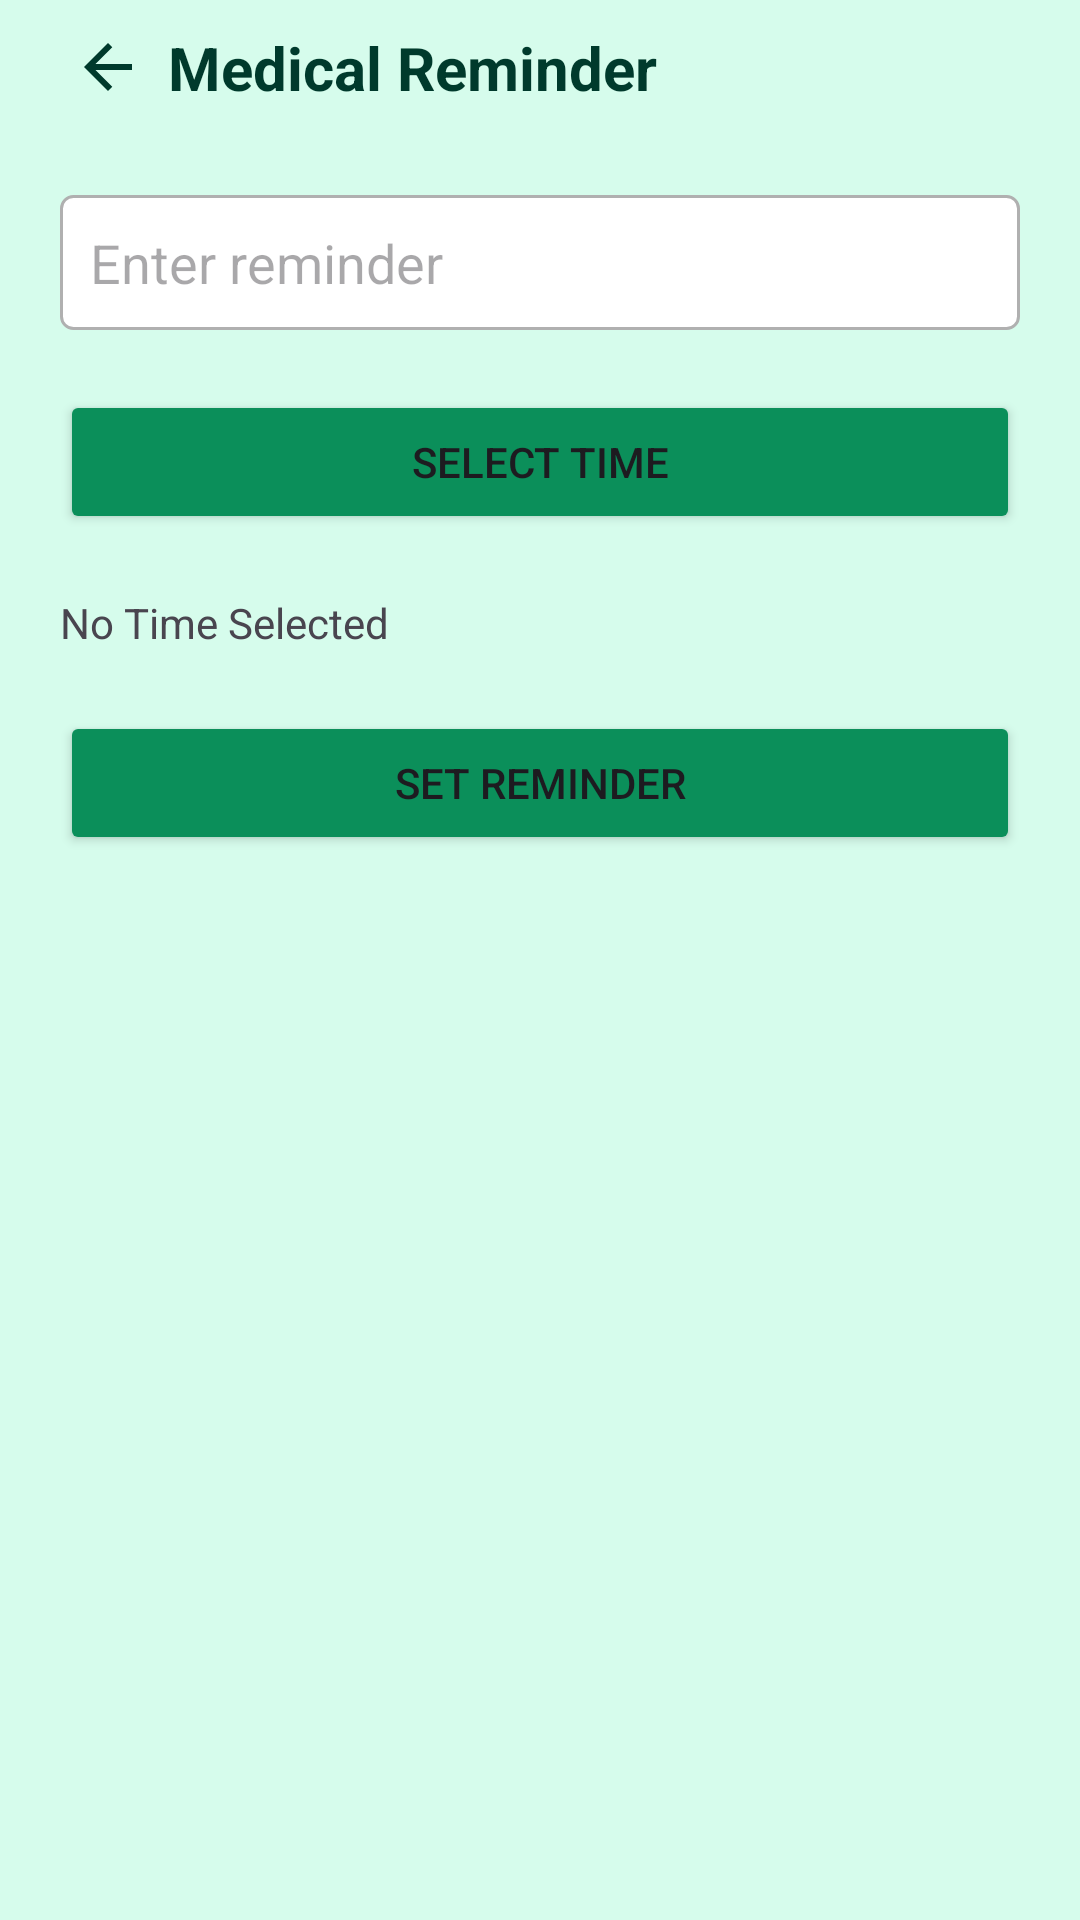

Where to tap for icons on this 1080×1920 app screen, as point (x, y):
arrow back: point (108, 67)
